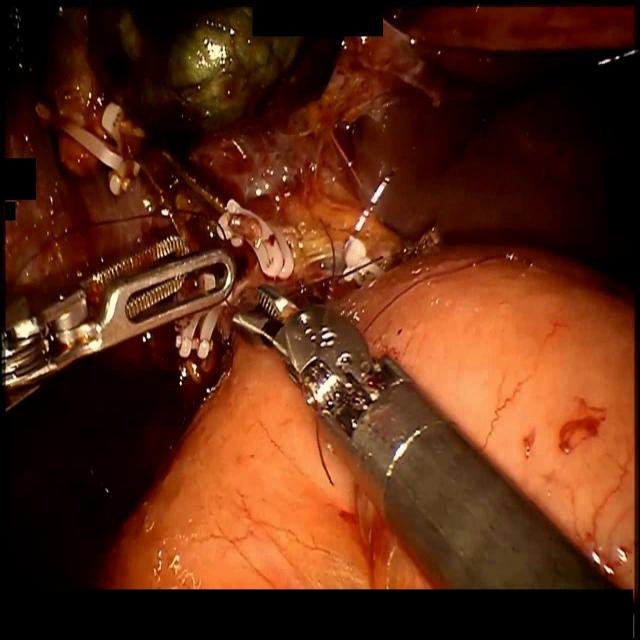surgical-area: (0, 0, 640, 589)
surgical-tool: (232, 278, 625, 593), (0, 235, 236, 411)
